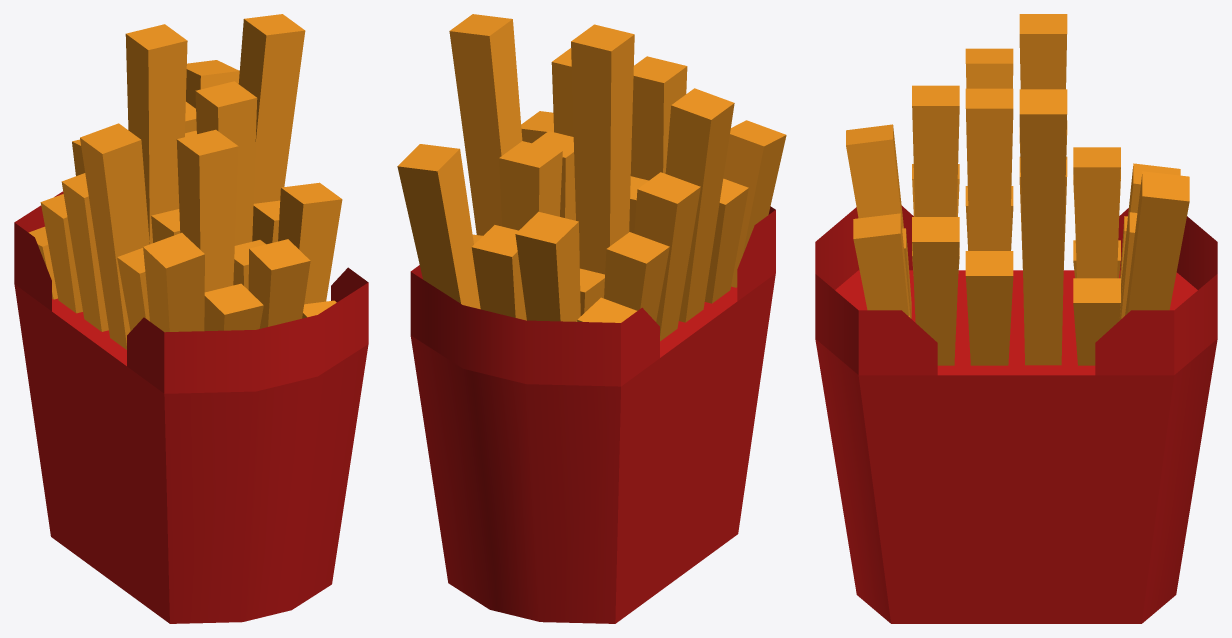
File: fries.obj
3 views of the same model, side by side, from view 1: azimuth 30°, elevation 25°; view 2: azimuth 150°, elevation 25°; view 3: azimuth 270°, elevation 25° (orthographic). The views are drawn at different scales.
Parts seen in each view (by area): view 1: fries; view 2: fries; view 3: fries.
Boxes of the visible parts, <box> form: fries: <box>14,14,368,623</box>; fries: <box>397,14,786,623</box>; fries: <box>815,14,1217,623</box>.
Bounding box in the file's own units: 0.183 × 0.3977 × 0.2653.
